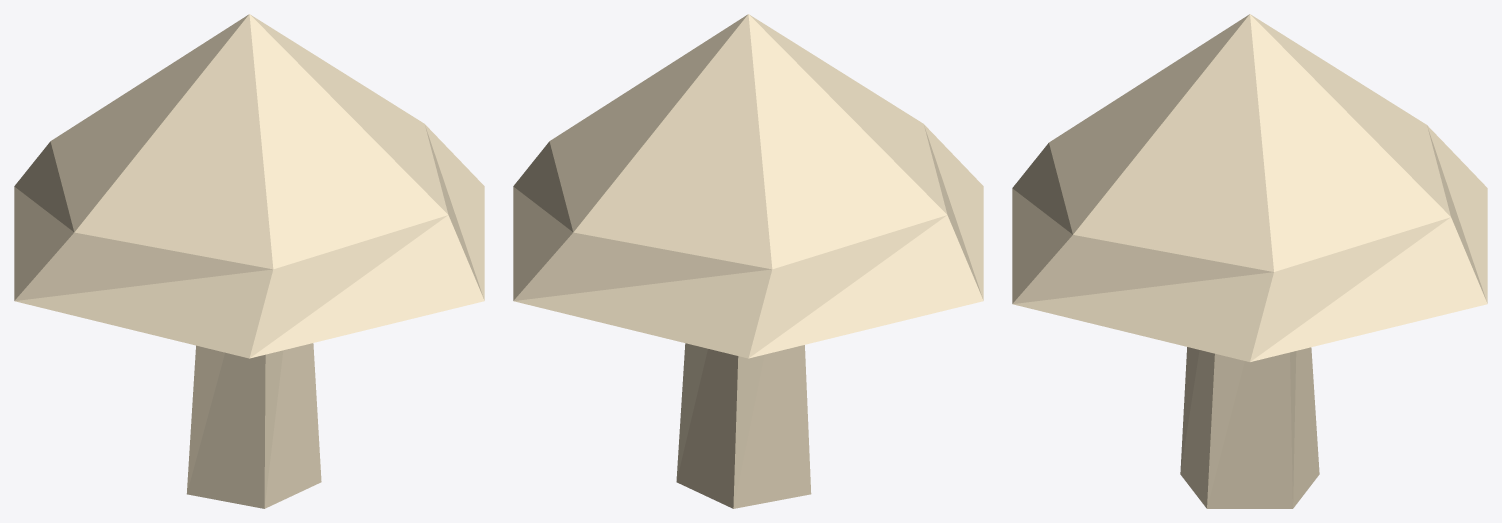
The picture shows the model from 3 angles, left to right: view 1: azimuth 30°, elevation 25°; view 2: azimuth 150°, elevation 25°; view 3: azimuth 270°, elevation 25°; orthographic projection.
Parts seen in each view (by area): view 1: 原森林蘑菇_3.001; view 2: 原森林蘑菇_3.001; view 3: 原森林蘑菇_3.001.
Part boxes in pixels (left/top/right/bottom): 原森林蘑菇_3.001: left=14, top=14, right=484, bottom=508; 原森林蘑菇_3.001: left=513, top=14, right=983, bottom=508; 原森林蘑菇_3.001: left=1012, top=14, right=1487, bottom=508.
Bounding box in the file's own units: 0.09 × 0.085 × 0.0779.
